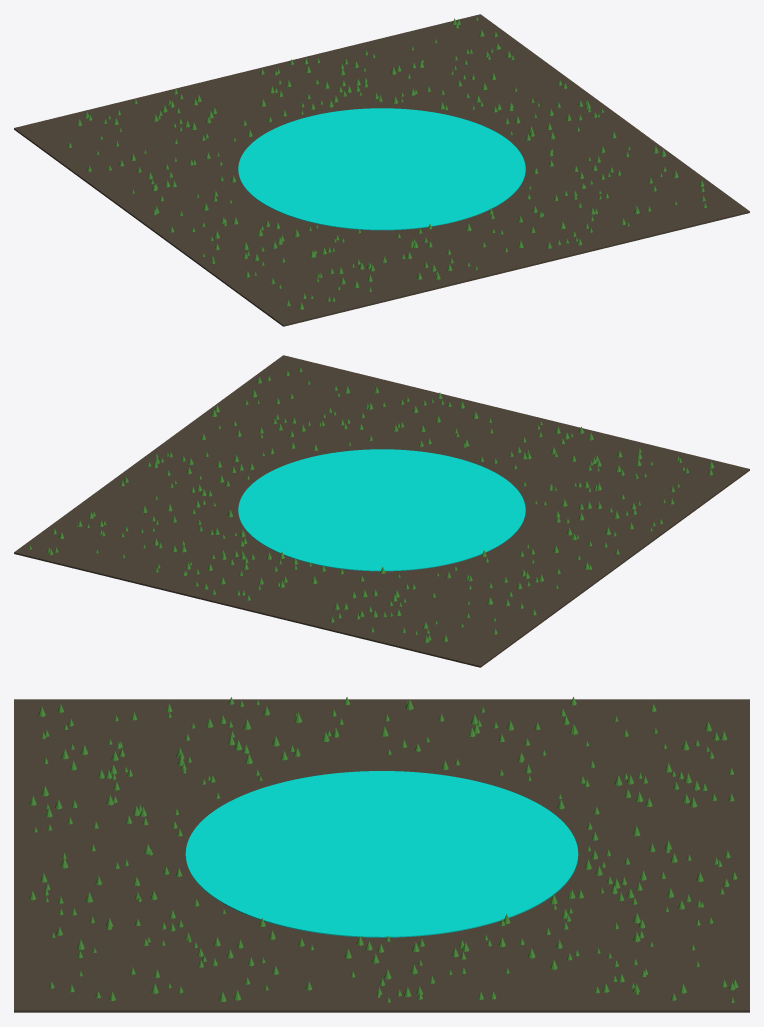
The picture shows the model from 3 angles, top to bottom: view 1: azimuth 30°, elevation 25°; view 2: azimuth 150°, elevation 25°; view 3: azimuth 270°, elevation 25°; orthographic projection. The views are drawn at different scales.
Parts seen in each view (by area): view 1: Terrain, Terrain.001; view 2: Terrain, Terrain.001; view 3: Terrain, Terrain.001.
Boxes of the visible parts, box(x1,y1,x2,y2) form: Terrain: box(14, 14, 749, 326); Terrain.001: box(238, 108, 525, 230); Terrain: box(14, 355, 749, 667); Terrain.001: box(238, 449, 525, 571); Terrain: box(14, 699, 749, 1012); Terrain.001: box(185, 771, 578, 937).
Bounding box in the file's own units: 1500 × 33 × 1500.
